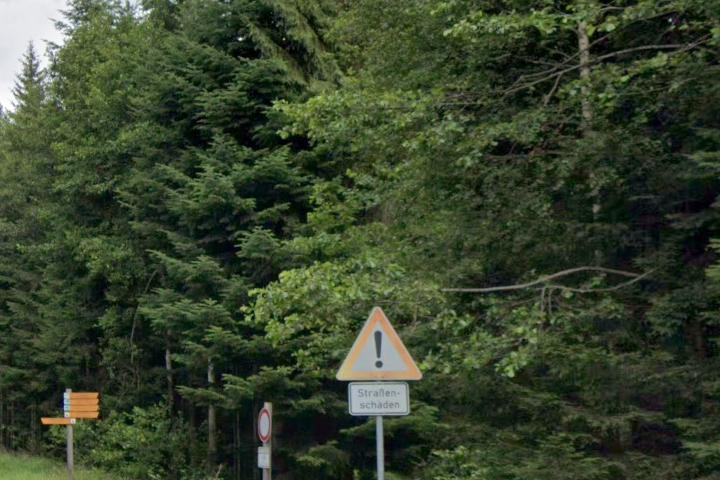traffic_sign: (332, 306, 423, 381), (257, 410, 272, 440)
